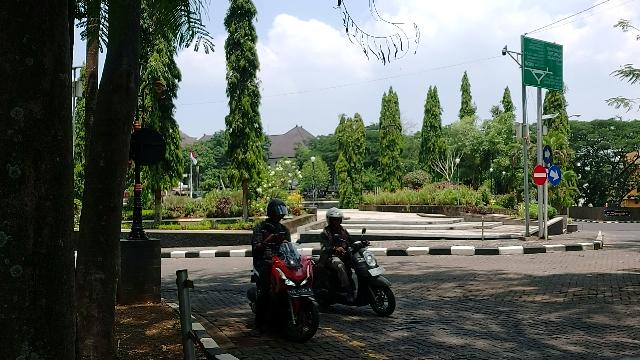helm: (268, 199, 291, 226), (327, 207, 346, 229)
motor: (248, 240, 323, 344), (313, 228, 398, 319)
